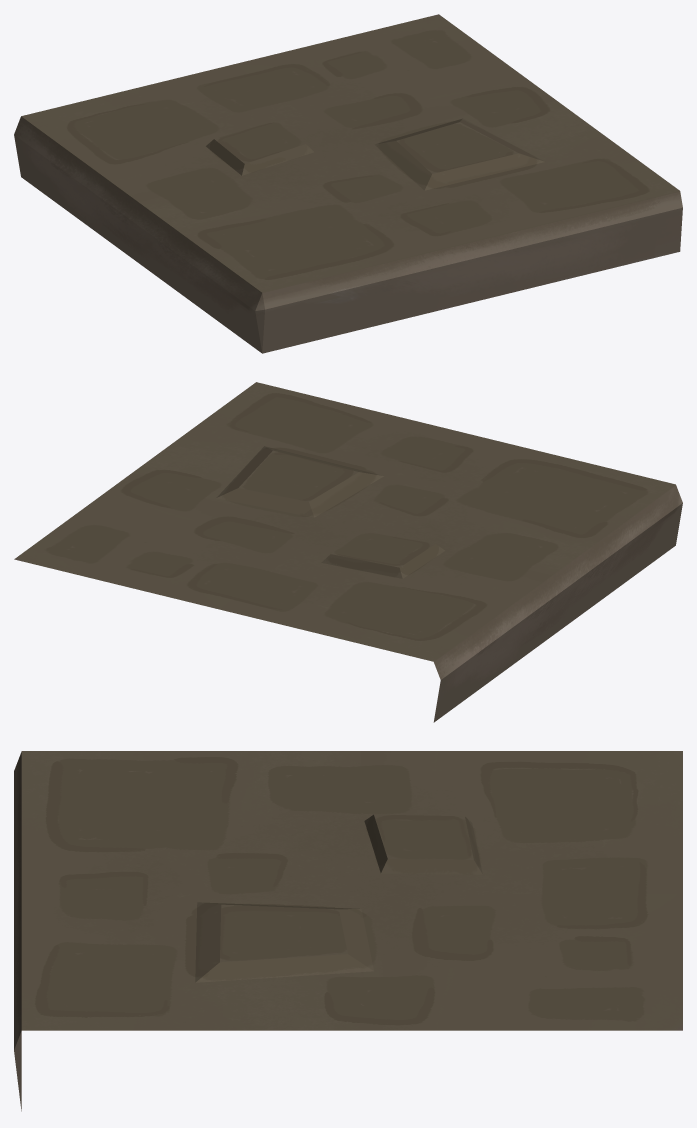
File: SidewalkCorner1.fbx
3 renders of one model, top to bottom at view 1: azimuth 30°, elevation 25°; view 2: azimuth 150°, elevation 25°; view 3: azimuth 270°, elevation 25°, orthographic. The views are drawn at different scales.
Parts seen in each view (by area): view 1: Plane.018; view 2: Plane.018; view 3: Plane.018.
Boxes of the visible parts, bbox=[...] form: Plane.018: bbox=[14, 14, 682, 353]; Plane.018: bbox=[14, 382, 682, 722]; Plane.018: bbox=[14, 751, 682, 1111].
Bounding box in the file's own units: 1096 × 169 × 1090.
